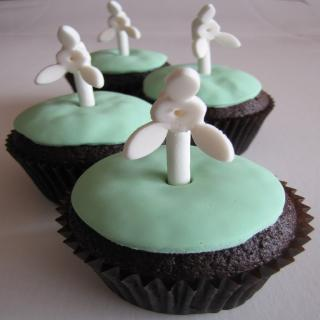Cake: (55, 65, 308, 318), (0, 20, 156, 208), (138, 2, 278, 158), (60, 0, 174, 100)
Muffin: (55, 134, 315, 320), (3, 22, 153, 206), (137, 2, 274, 156), (63, 2, 168, 104)
